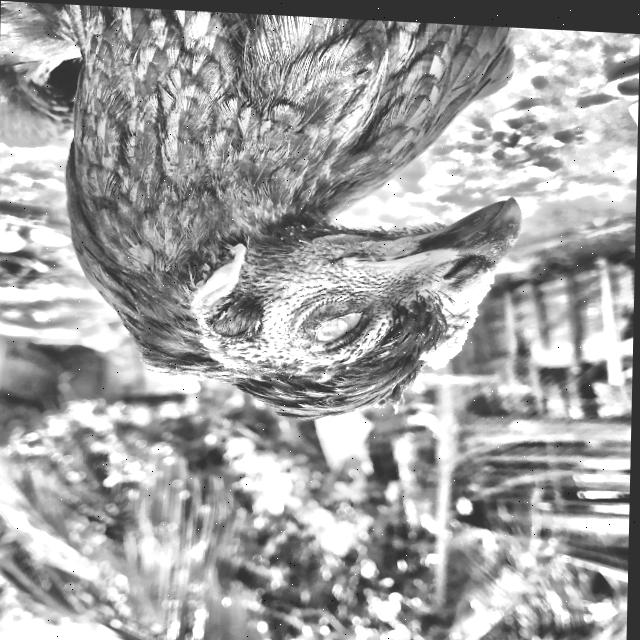Coryza: (0, 0, 550, 465)
